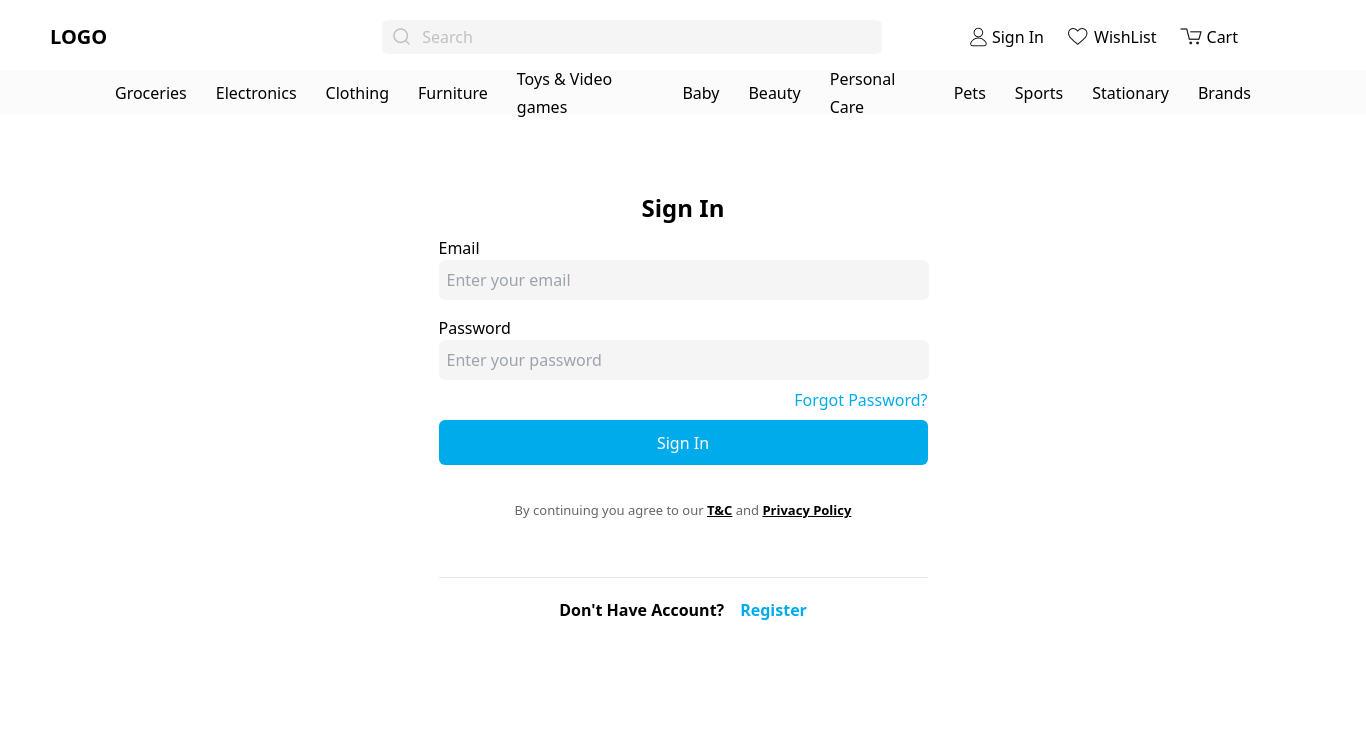
Test: Authentication › should allow user to log in and redirects to account details page
Type "menna@34ml.com" into the field with id "email" at (684, 280), box [439, 260, 929, 300]
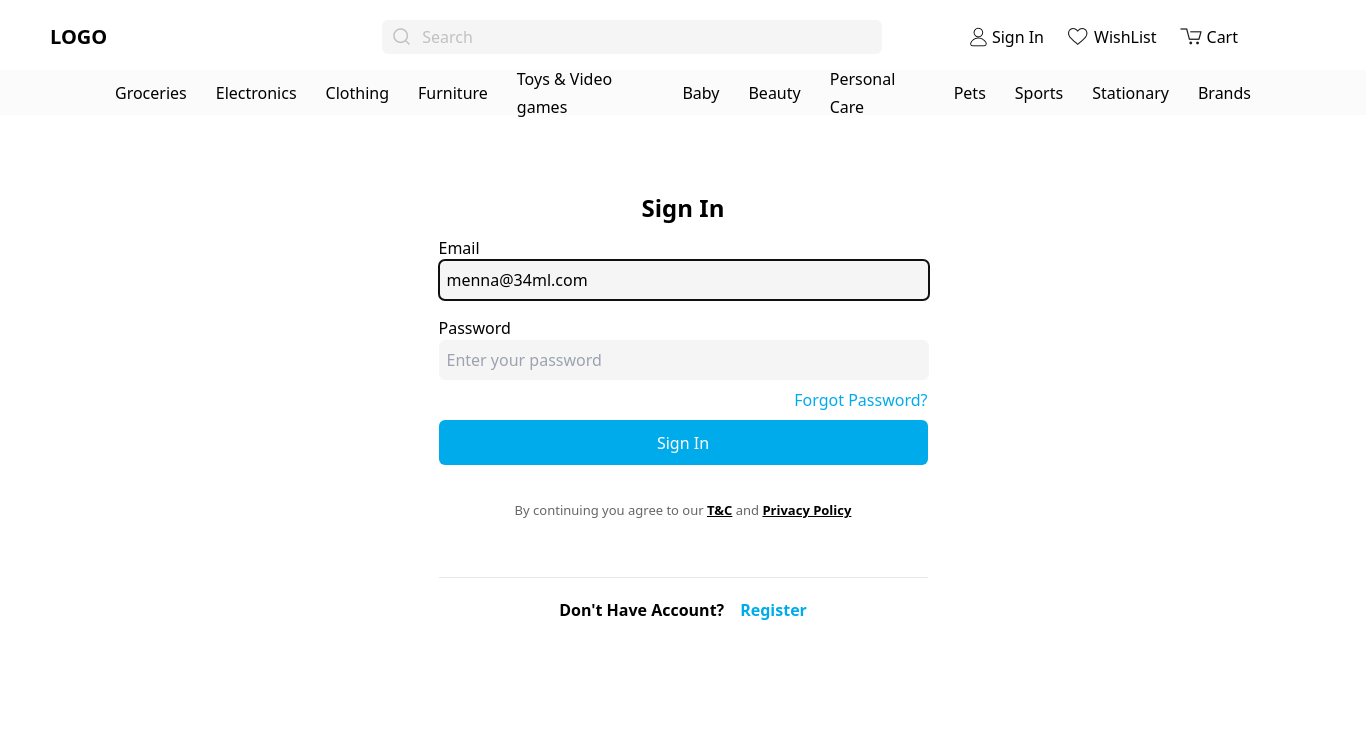
Type "password123" into the password field labelled "Password" at (684, 360), box [439, 340, 929, 380]
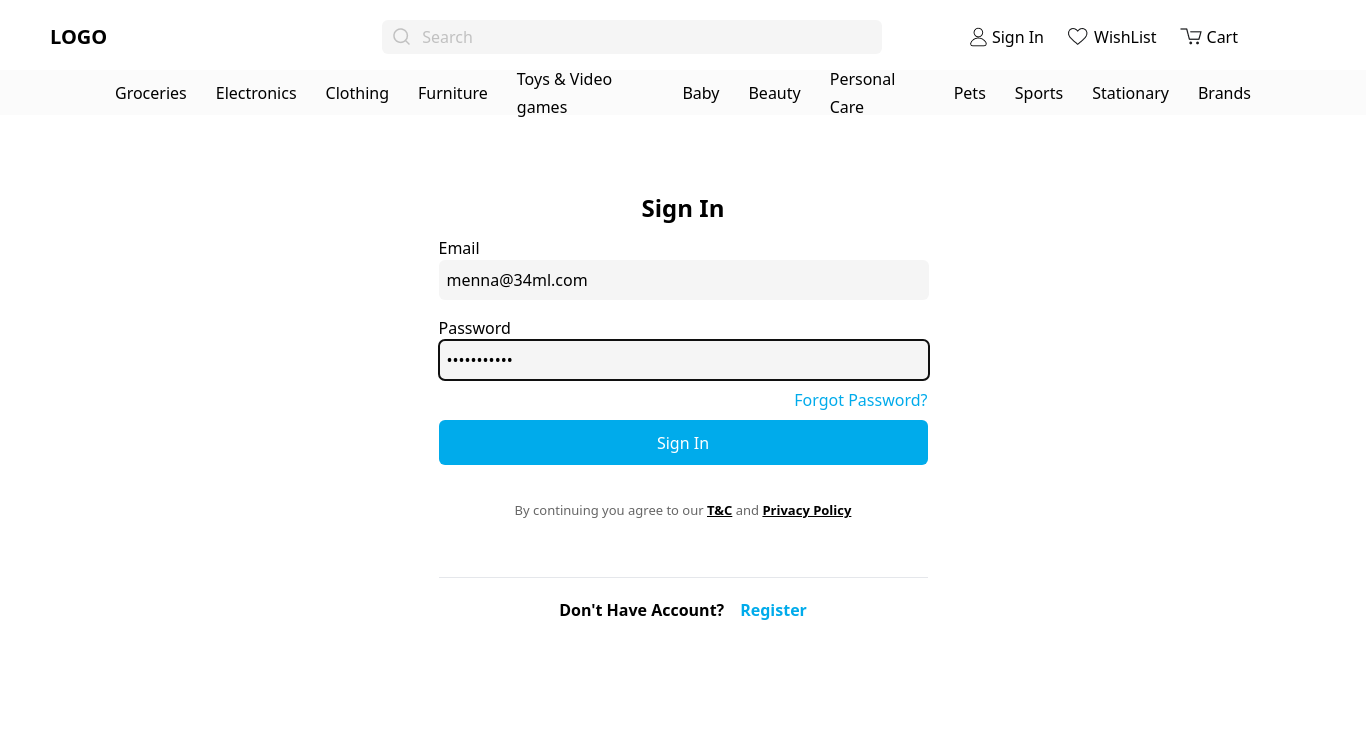
Click the button with id "sign-in-btn" at (684, 443), box [439, 420, 928, 465]
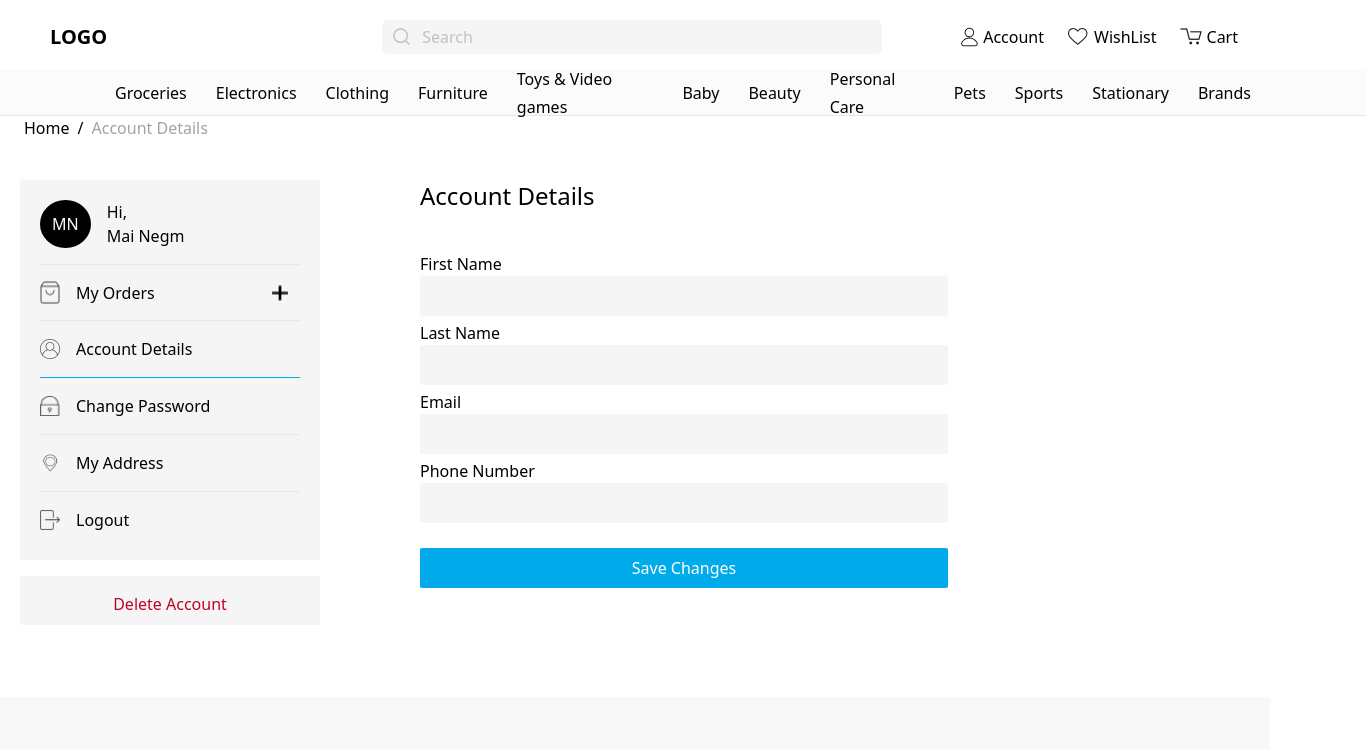
Now the text "Account Details" is shown, box [92, 116, 208, 140]
